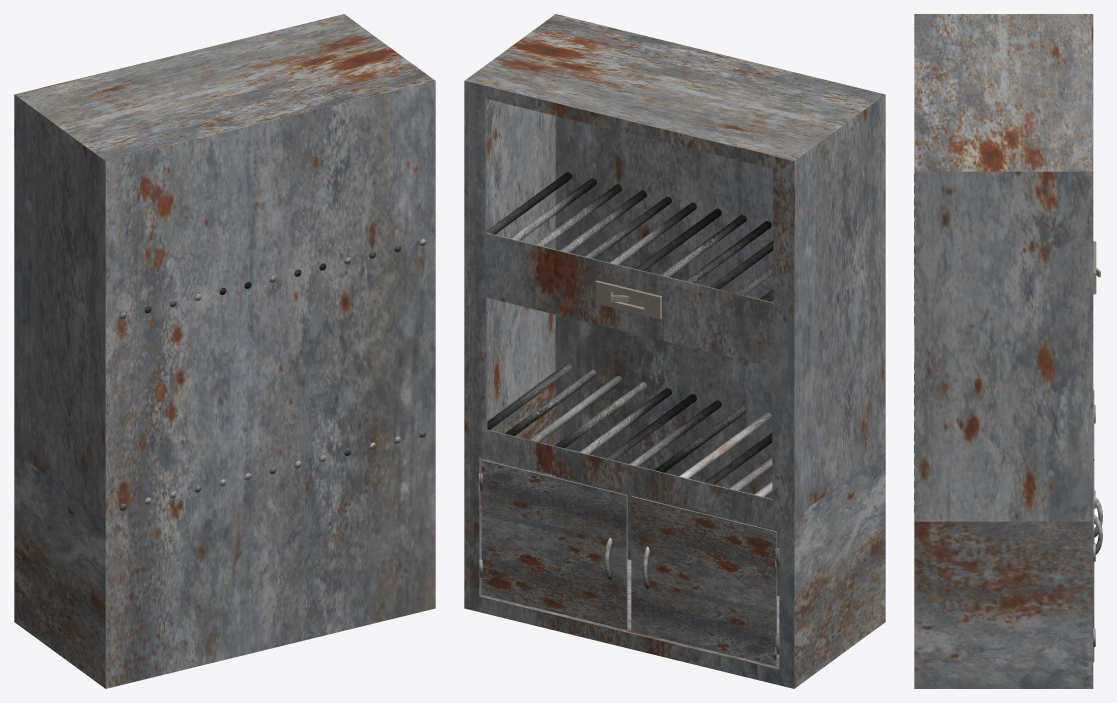
File: Cooker.fbx
The picture shows the model from 3 angles, left to right: view 1: azimuth 30°, elevation 25°; view 2: azimuth 150°, elevation 25°; view 3: azimuth 270°, elevation 25°; orthographic projection. The views are drawn at different scales.
Visible parts, largest first — view 1: Body, Bars; view 2: Body, DoorLeft, DoorRight, Bars; view 3: Body, DoorLeft, DoorRight.
Boxes of the visible parts, x1=… form: Body: x1=14, y1=14, x2=435, y2=688; Bars: x1=119, y1=239, x2=425, y2=510; Body: x1=464, y1=14, x2=885, y2=688; DoorLeft: x1=478, y1=459, x2=627, y2=629; DoorRight: x1=631, y1=496, x2=779, y2=666; Bars: x1=486, y1=172, x2=773, y2=496; Body: x1=914, y1=14, x2=1096, y2=688; DoorLeft: x1=1093, y1=461, x2=1102, y2=662; DoorRight: x1=1093, y1=389, x2=1102, y2=537.
Size of the model in its own units: 3965 by 6063 by 2006.
